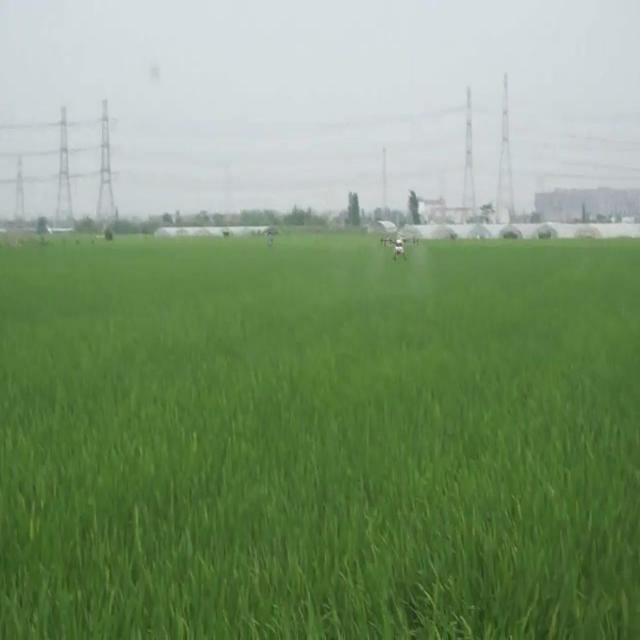UAV: (381, 235, 418, 261)
